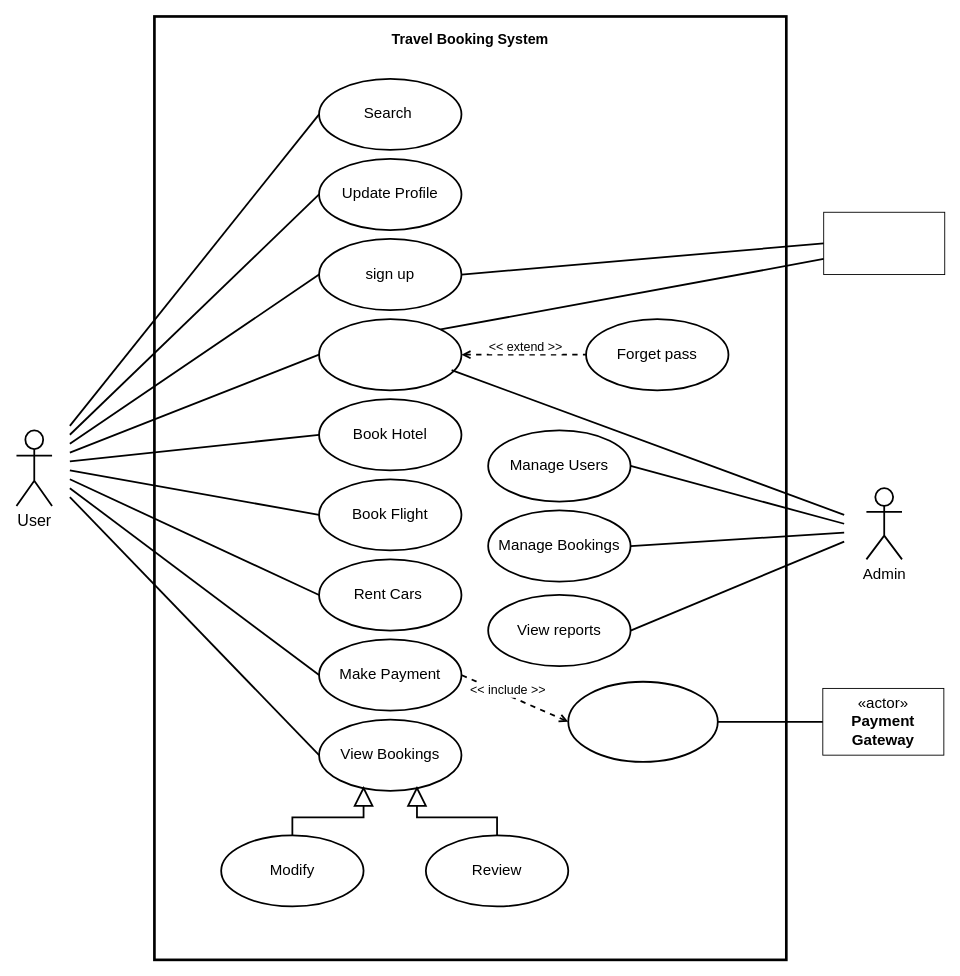
Image size: 960x976. Some labels were removed from this diagram. Each missing label, with the centre of its shape:
"Log in" goes at point (390, 354).
"Validate Payment Method" goes at point (642, 721).
"«actor» Authentication Service" goes at point (884, 243).
